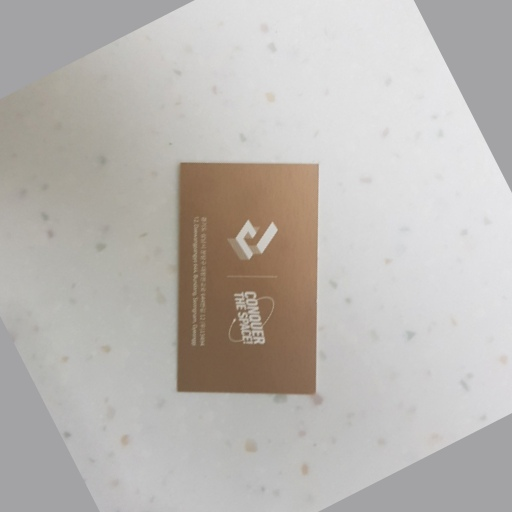Paper_2: (172, 155, 326, 409)
